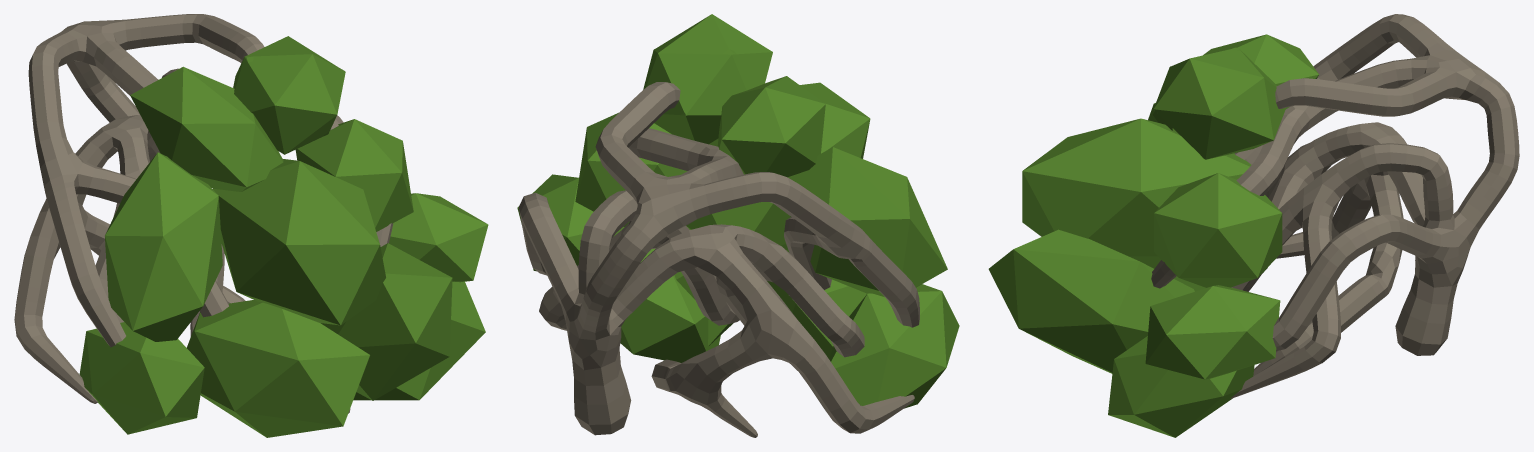
File: SabinaHojas.fbx
The picture shows the model from 3 angles, left to right: view 1: azimuth 30°, elevation 25°; view 2: azimuth 150°, elevation 25°; view 3: azimuth 270°, elevation 25°; orthographic projection. The views are drawn at different scales.
Parts seen in each view (by area): view 1: Plane, Icosphere, Icosphere.005, Icosphere.006, Icosphere.007, Icosphere.003, Icosphere.004, Icosphere.009, Icosphere.008, Icosphere.001, Icosphere.002; view 2: Plane, Icosphere.006, Icosphere.004, Icosphere.009, Icosphere.007, Icosphere.002, Icosphere, Icosphere.008, Icosphere.001, Icosphere.005, Icosphere.003; view 3: Plane, Icosphere, Icosphere.003, Icosphere.008, Icosphere.009, Icosphere.001, Icosphere.002, Icosphere.007.
Part boxes in pixels (x1,y1,x2,y2): Plane: (14,14,393,413); Icosphere: (213,159,385,325); Icosphere.005: (187,300,369,437); Icosphere.006: (105,152,222,341); Icosphere.007: (130,66,283,191); Icosphere.003: (320,243,452,400); Icosphere.004: (79,322,204,434); Icosphere.009: (233,36,345,154); Icosphere.008: (295,119,413,231); Icosphere.001: (389,193,488,282); Icosphere.002: (353,281,485,400); Plane: (518,82,919,437); Icosphere.006: (788,147,947,296); Icosphere.004: (829,284,959,408); Icosphere.009: (643,14,772,144); Icosphere.007: (717,76,825,177); Icosphere.002: (620,248,720,362); Icosphere: (686,82,870,249); Icosphere.008: (575,112,687,226); Icosphere.001: (517,174,624,271); Icosphere.005: (767,249,866,358); Icosphere.003: (674,226,733,346); Plane: (1151,14,1519,398); Icosphere: (1022,118,1251,268); Icosphere.003: (988,229,1194,373); Icosphere.008: (1154,173,1282,287); Icosphere.009: (1153,47,1285,159); Icosphere.001: (1145,285,1280,379); Icosphere.002: (1108,336,1254,437); Icosphere.007: (1153,34,1318,134).
Bounding box in the file's own units: 304 × 261 × 363.
